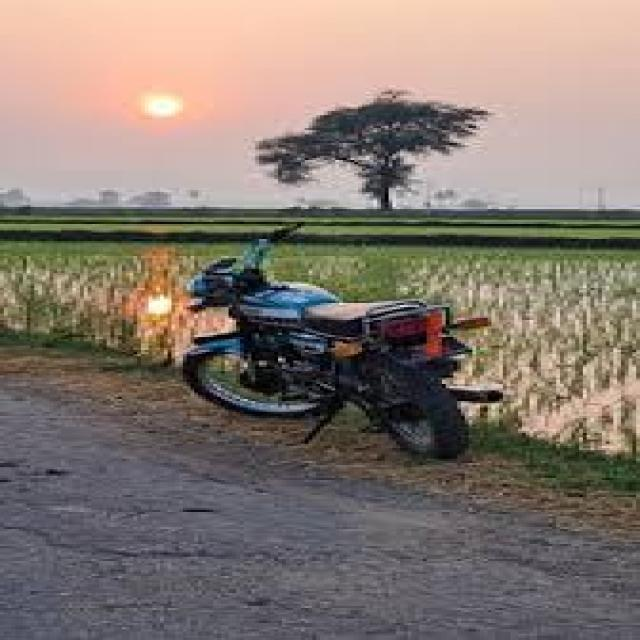Bike: (174, 220, 511, 461)
